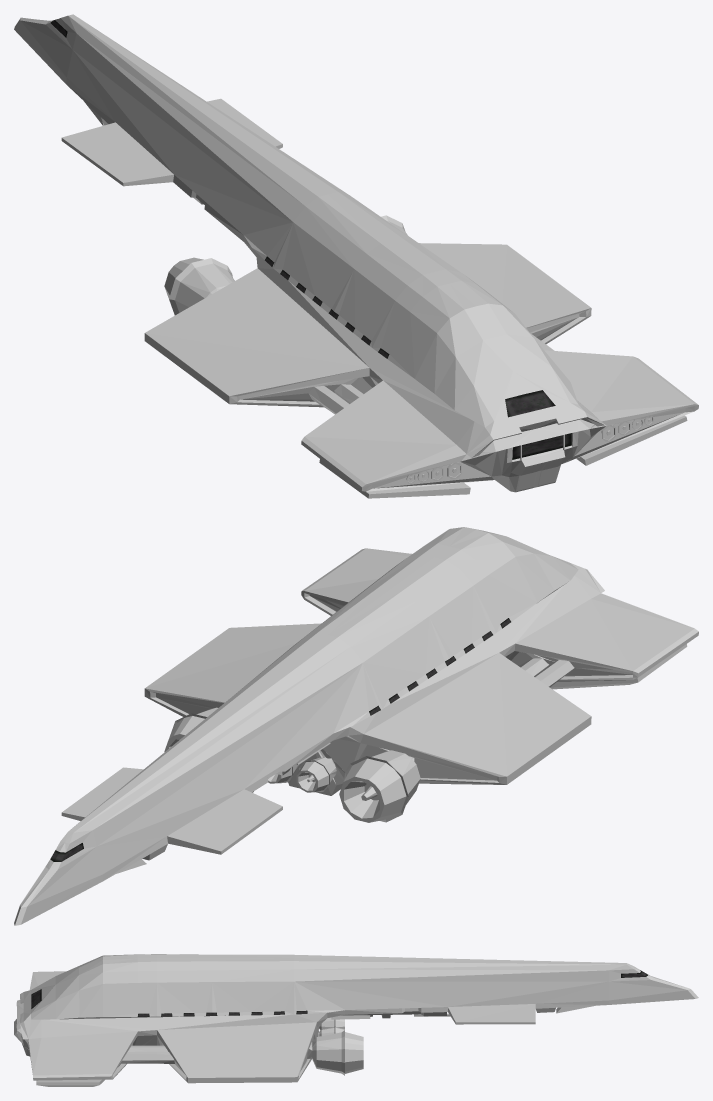
The model's file is hutt_transport_l1.fbx.
3 renders of one model, top to bottom at view 1: azimuth 30°, elevation 25°; view 2: azimuth 150°, elevation 25°; view 3: azimuth 270°, elevation 25°, orthographic. The views are drawn at different scales.
Visible parts, largest first — view 1: mesh_node; view 2: mesh_node; view 3: mesh_node.
Part boxes in pixels (box(x1,y1,x2,y2)): mesh_node: box(14, 14, 698, 498); mesh_node: box(14, 527, 698, 925); mesh_node: box(14, 954, 698, 1086).
Bounding box in the file's own units: 36.86 × 13.94 × 93.5.
